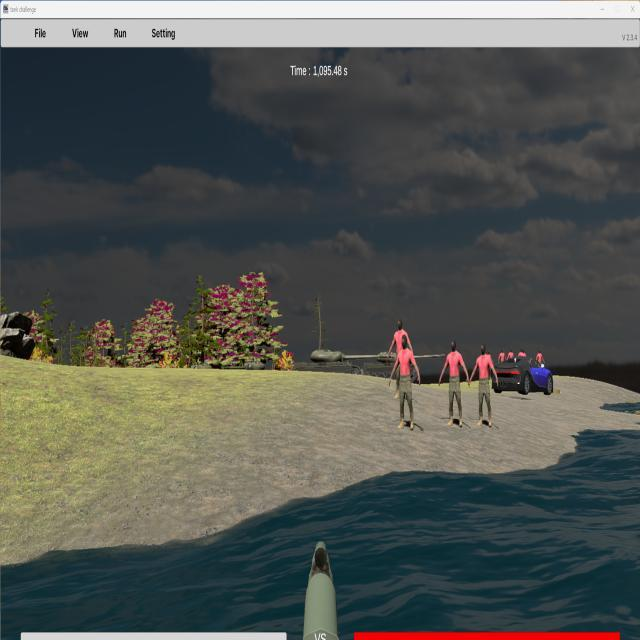Human: (390, 336, 420, 430), (439, 339, 468, 427), (469, 345, 498, 426), (388, 317, 412, 406)
car: (493, 356, 554, 396)
